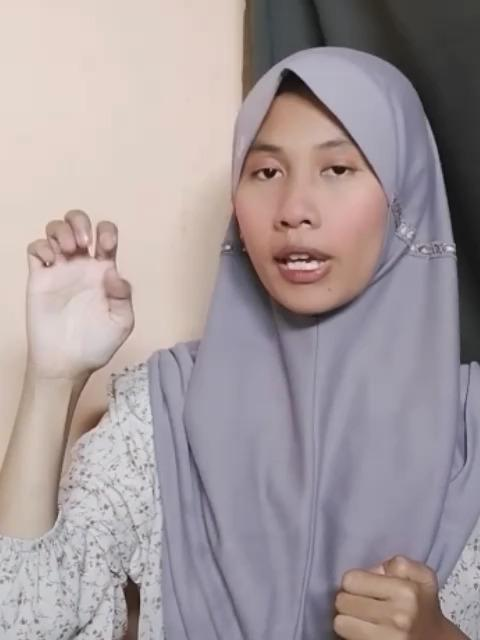E: (18, 204, 142, 374)
